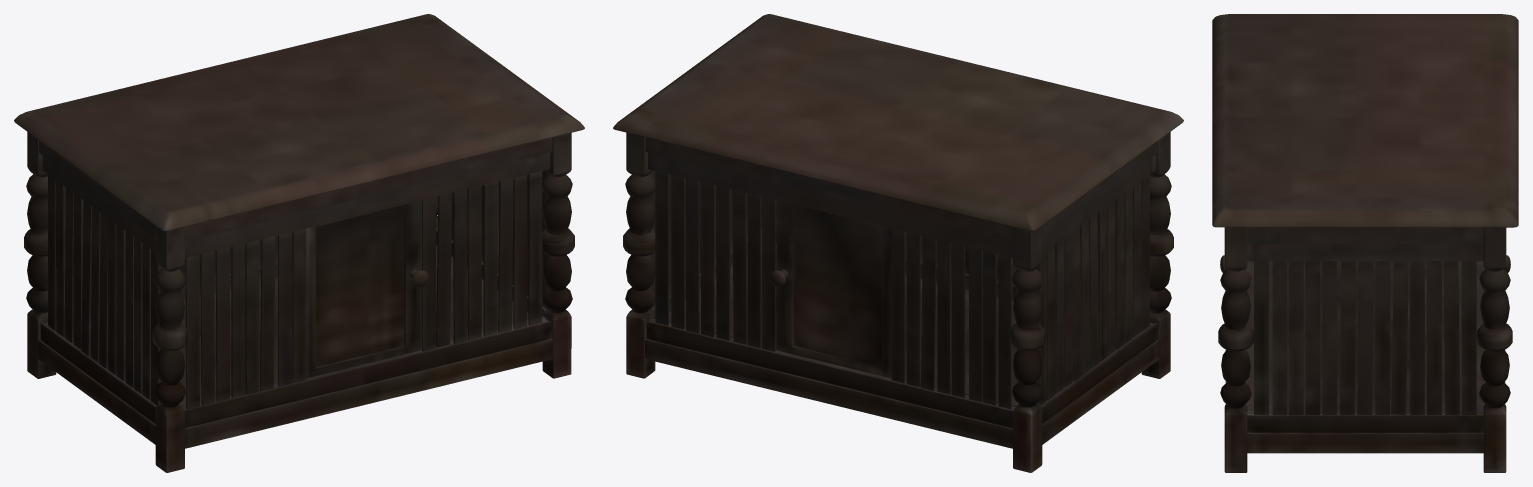
Rendered from table-gallinera.lite.05dfd7f4.glb.
The picture shows the model from 3 angles, left to right: view 1: azimuth 30°, elevation 25°; view 2: azimuth 150°, elevation 25°; view 3: azimuth 270°, elevation 25°; orthographic projection.
Parts seen in each view (by area): view 1: model; view 2: model; view 3: model.
Boxes of the visible parts, box(x1,y1,x2,y2) form: model: box(14, 14, 584, 472); model: box(613, 14, 1183, 472); model: box(1212, 14, 1518, 472).
Size of the model in its own units: 0.8301 by 0.4878 by 0.5183.
Materials: 1 (1 with a texture image).
